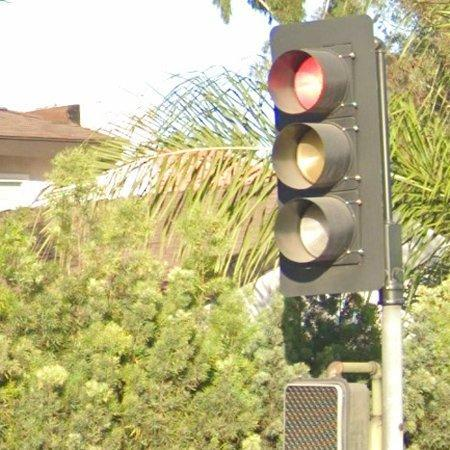traffic lights: (268, 12, 385, 297)
